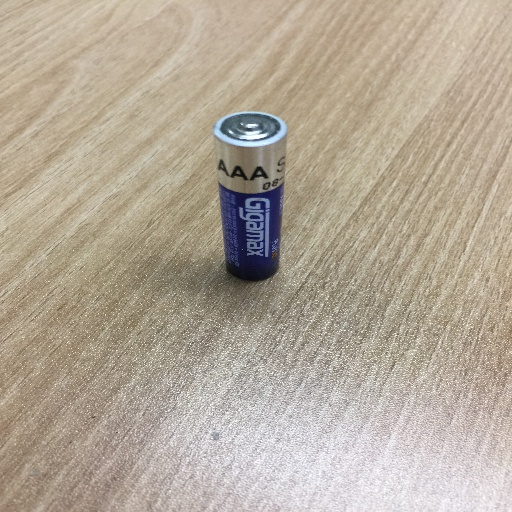Battery_0: (205, 94, 297, 304)
